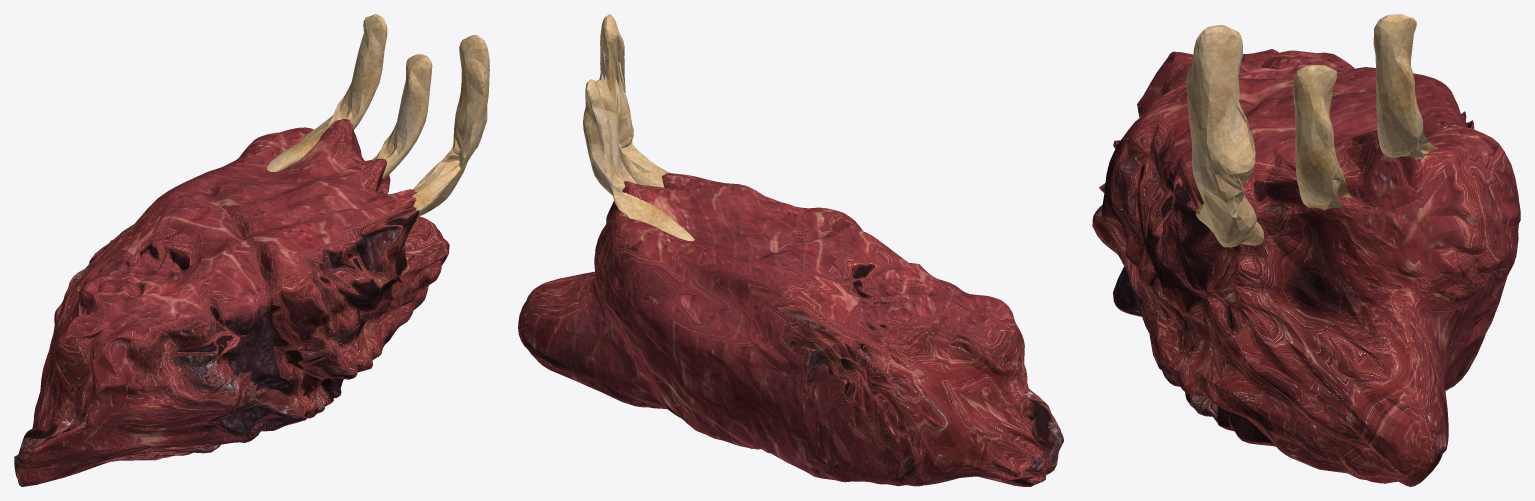
The model's file is meatAndBone.fbx.
The picture shows the model from 3 angles, left to right: view 1: azimuth 30°, elevation 25°; view 2: azimuth 150°, elevation 25°; view 3: azimuth 270°, elevation 25°; orthographic projection. The views are drawn at different scales.
Visible parts, largest first — view 1: bodyParts:polySurface1, bodyParts:polySurface2, bodyParts:polySurface4, bodyParts:polySurface3; view 2: bodyParts:polySurface1, bodyParts:polySurface4, bodyParts:polySurface2, bodyParts:polySurface3; view 3: bodyParts:polySurface1, bodyParts:polySurface2, bodyParts:polySurface4, bodyParts:polySurface3.
Boxes of the visible parts, left/top/right/bottom form: bodyParts:polySurface1: left=14, top=119, right=449, bottom=486; bodyParts:polySurface2: left=412, top=35, right=489, bottom=216; bodyParts:polySurface4: left=267, top=14, right=387, bottom=171; bodyParts:polySurface3: left=372, top=54, right=432, bottom=178; bodyParts:polySurface1: left=518, top=173, right=1063, bottom=486; bodyParts:polySurface4: left=583, top=79, right=694, bottom=241; bodyParts:polySurface2: left=599, top=14, right=669, bottom=187; bodyParts:polySurface3: left=596, top=80, right=636, bottom=183; bodyParts:polySurface1: left=1092, top=49, right=1520, bottom=486; bodyParts:polySurface2: left=1186, top=25, right=1263, bottom=247; bodyParts:polySurface4: left=1373, top=14, right=1437, bottom=158; bodyParts:polySurface3: left=1293, top=64, right=1352, bottom=210.
Size of the model in its own units: 2.15 by 1.5 by 1.08.
